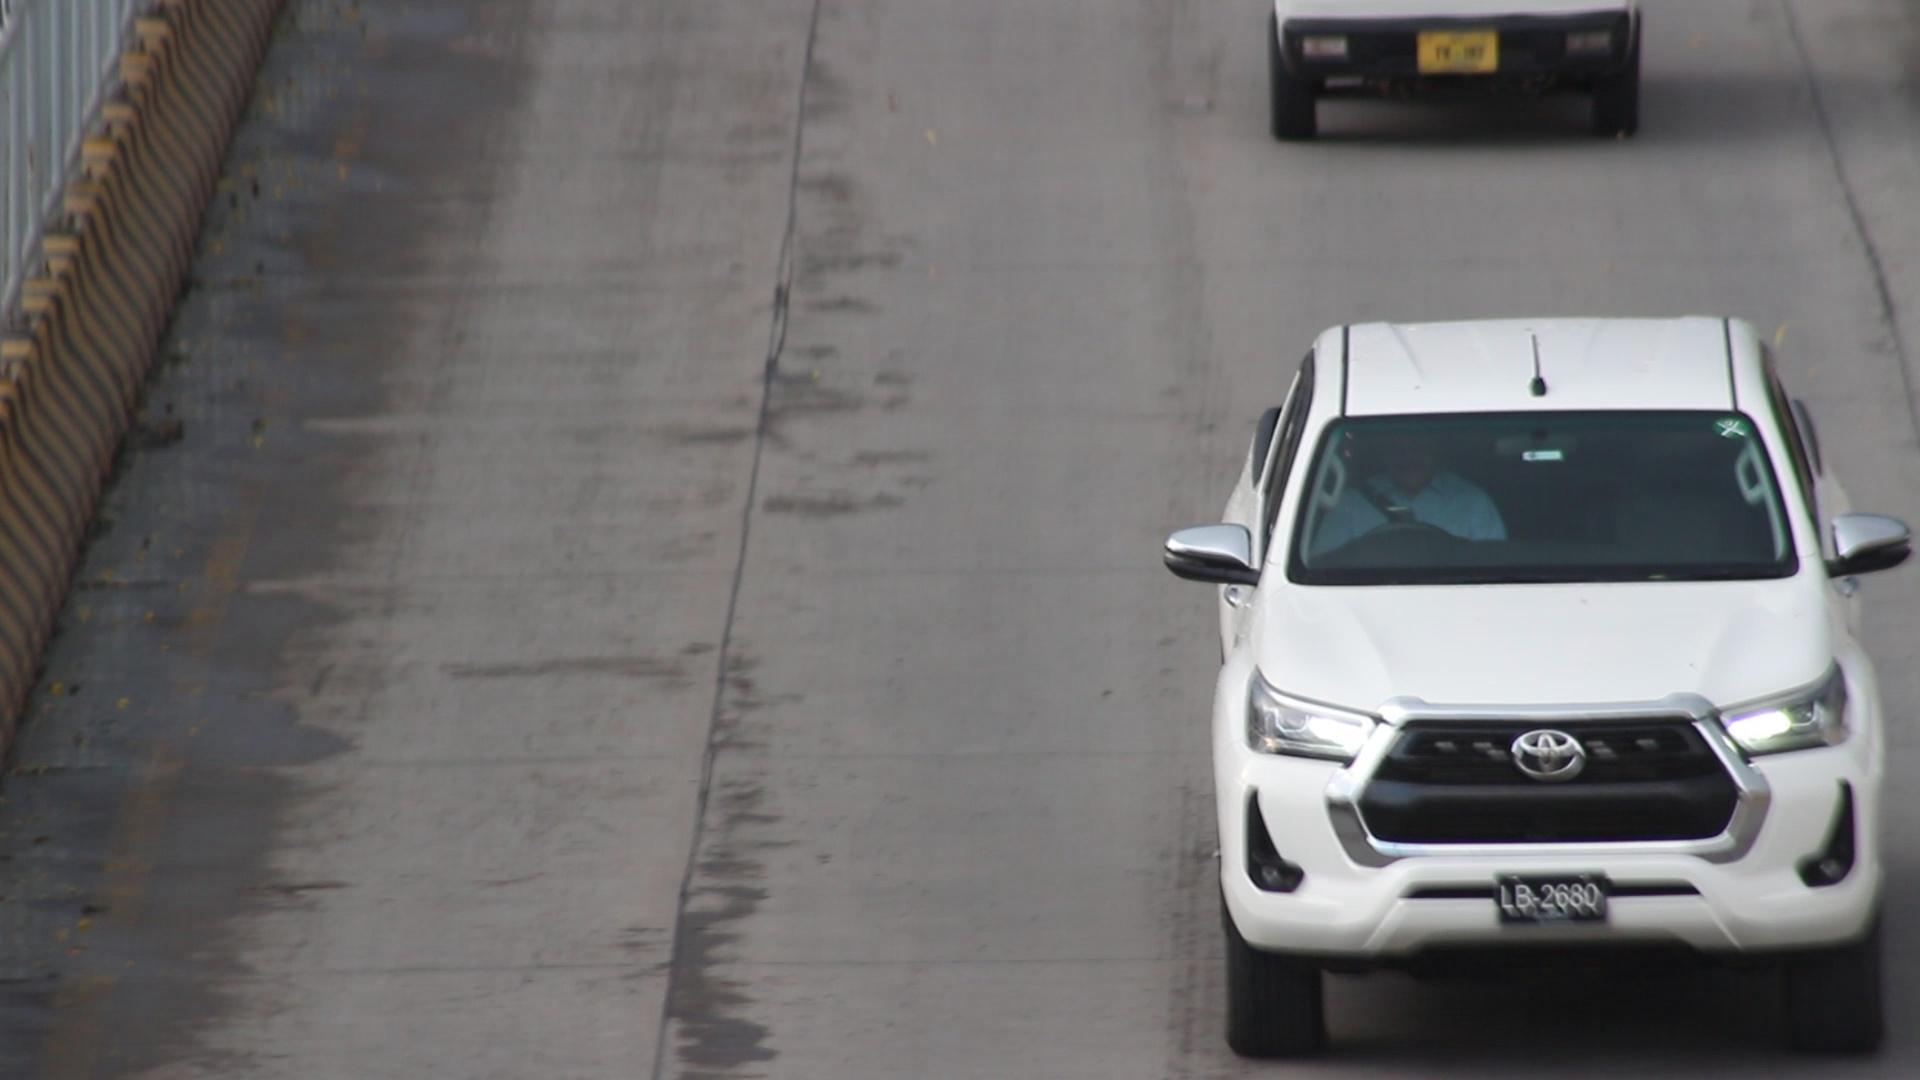windshield: (1276, 384, 1813, 593)
